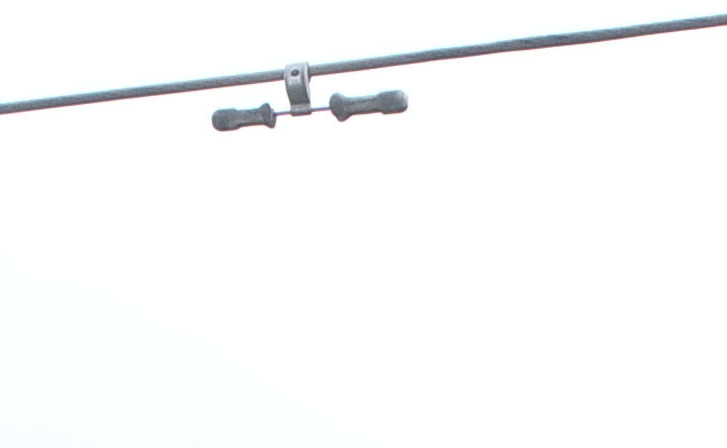damper: (207, 59, 410, 134)
